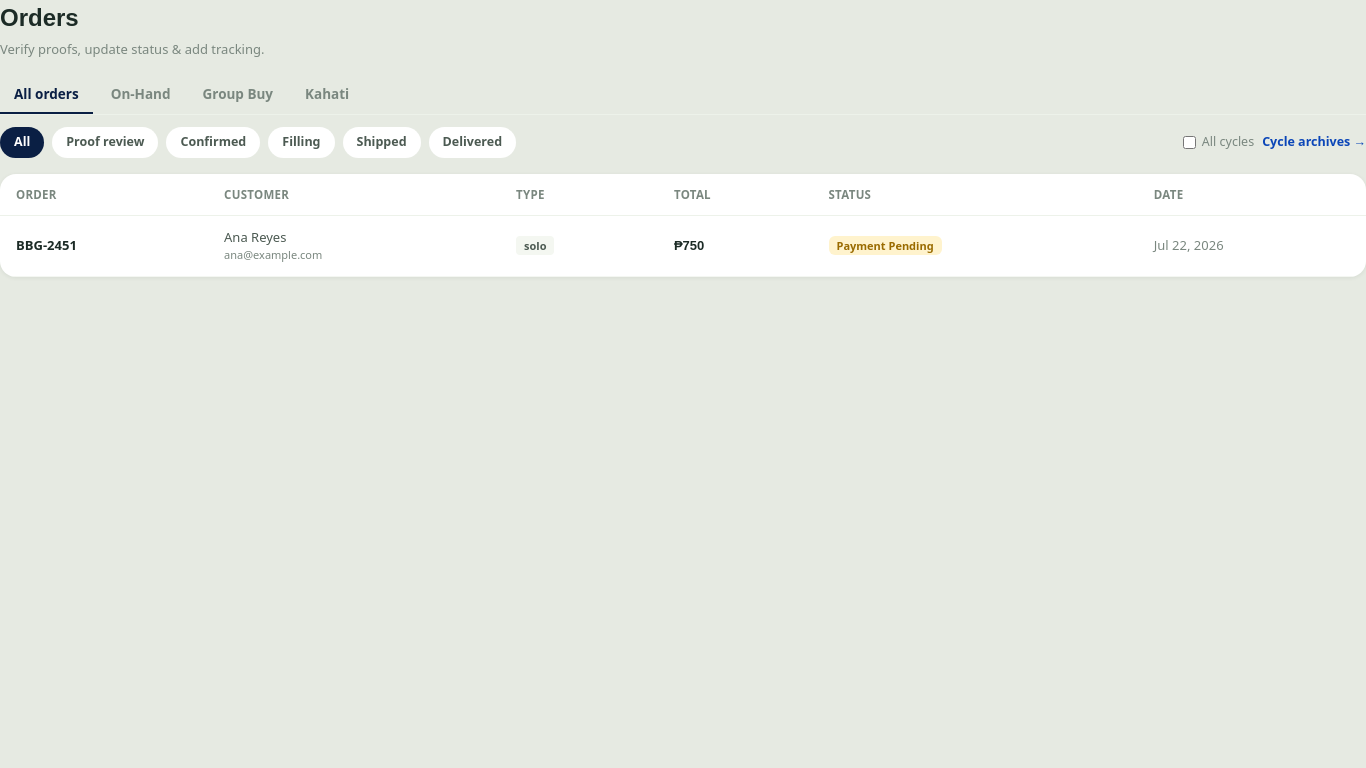
Test: AdminOrdersPage › shows the failure reason in the sheet when a status update is rejected
What coordinates should you click on to do the following:
click the text "BBG-2451"
I would click on:
 (46, 245)
Its box is [0,215,208,276].
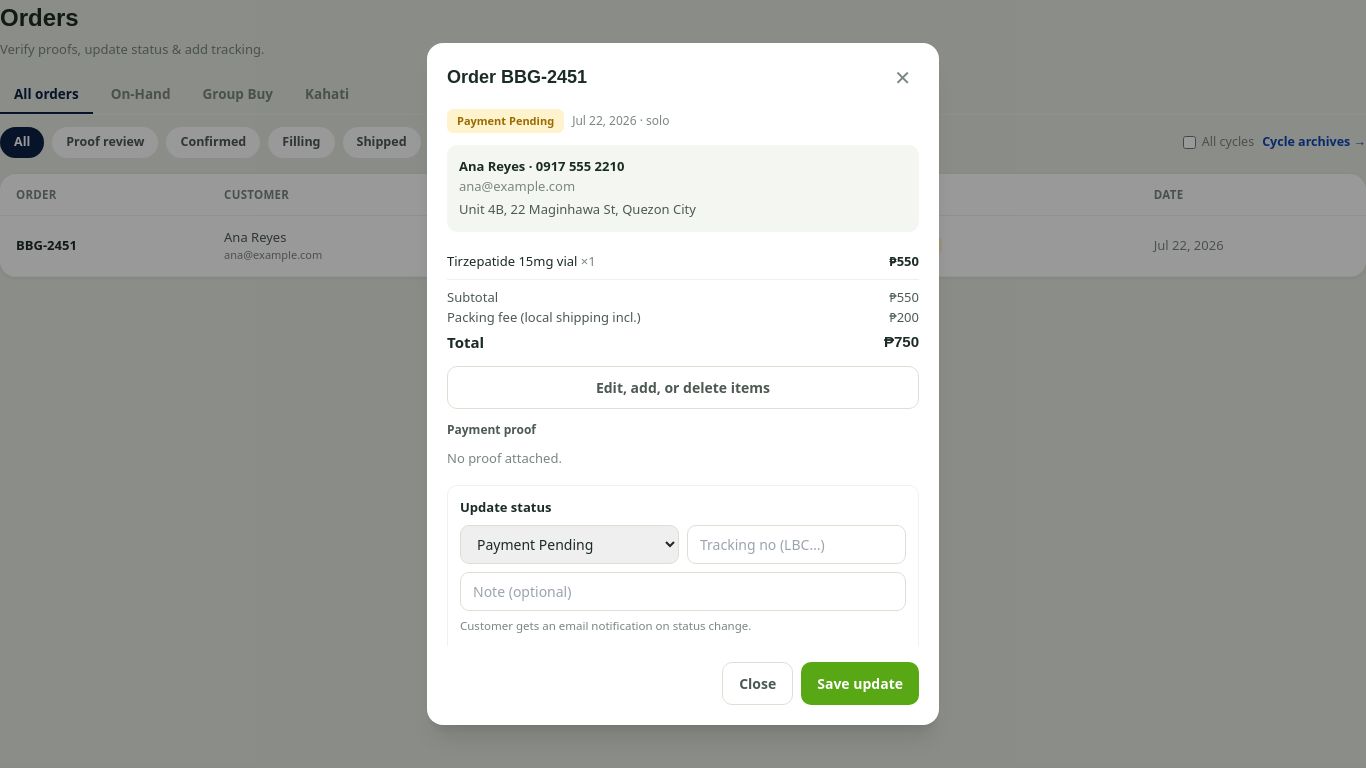
expect the text "Update status" is shown: met, box [460,498,552,516]
What coordinates should you click on to do the following:
click the button "Save update"
I would click on:
 (860, 684)
Its box is [801,662,919,705].
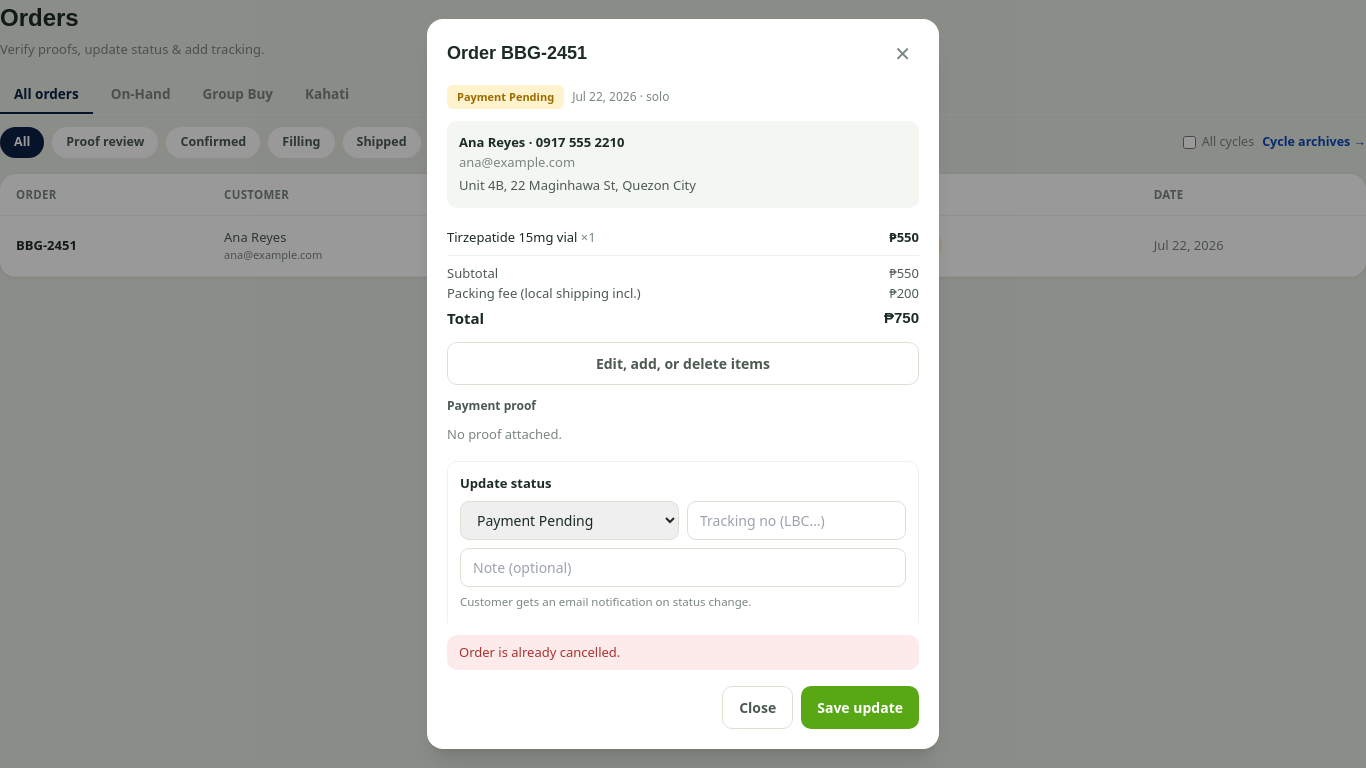
expect the text "Update status" is shown: met, box [460,474,552,492]
expect the message shows "already cancelled": met, box [459,642,620,660]
